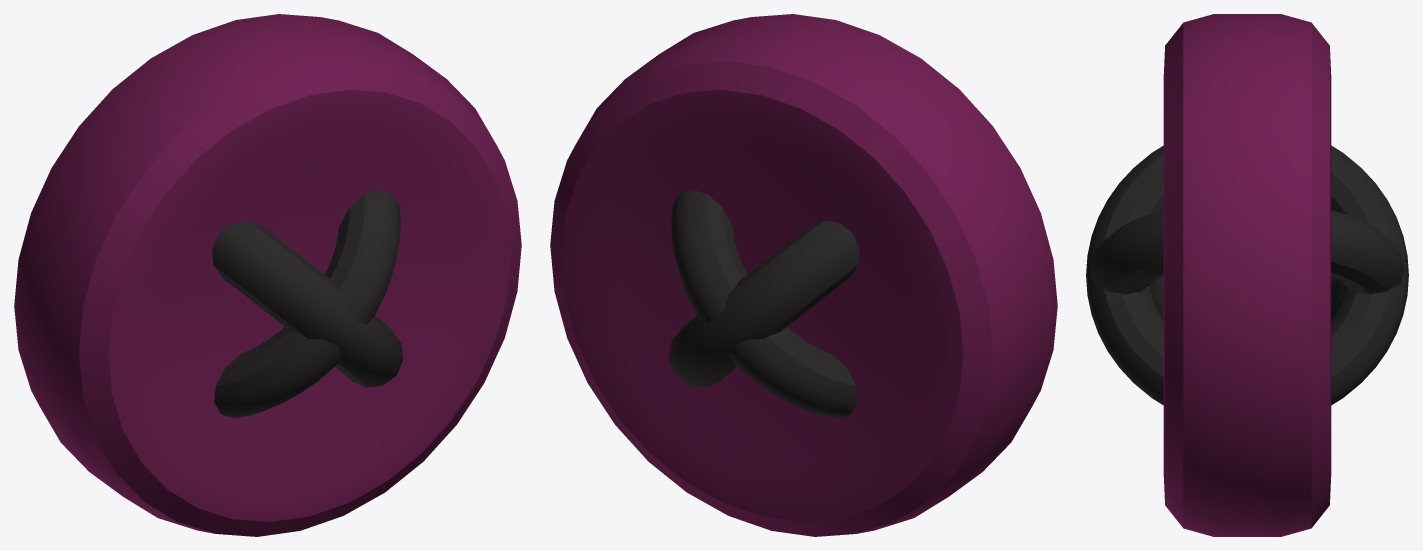
The model's file is SM_buttom_a.fbx.
The picture shows the model from 3 angles, left to right: view 1: azimuth 30°, elevation 25°; view 2: azimuth 150°, elevation 25°; view 3: azimuth 270°, elevation 25°; orthographic projection.
Parts seen in each view (by area): view 1: SM_buttom_A; view 2: SM_buttom_A; view 3: SM_buttom_A.
Part boxes in pixels (bbox=[...]): SM_buttom_A: bbox=[14, 14, 521, 536]; SM_buttom_A: bbox=[550, 14, 1057, 536]; SM_buttom_A: bbox=[1086, 14, 1408, 536].
Size of the model in its own units: 11.04 by 11.04 by 6.81.
